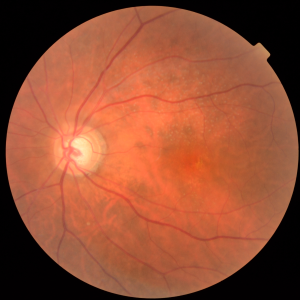glaucoma: (31, 96, 233, 214)
